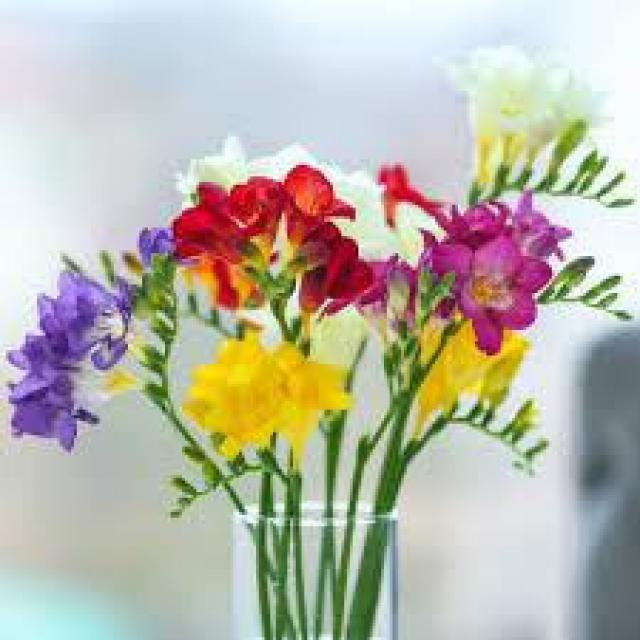freesia: (391, 316, 581, 498), (440, 51, 635, 212), (2, 250, 132, 460), (191, 312, 352, 467), (426, 208, 546, 355), (167, 164, 287, 250), (274, 150, 357, 247)
